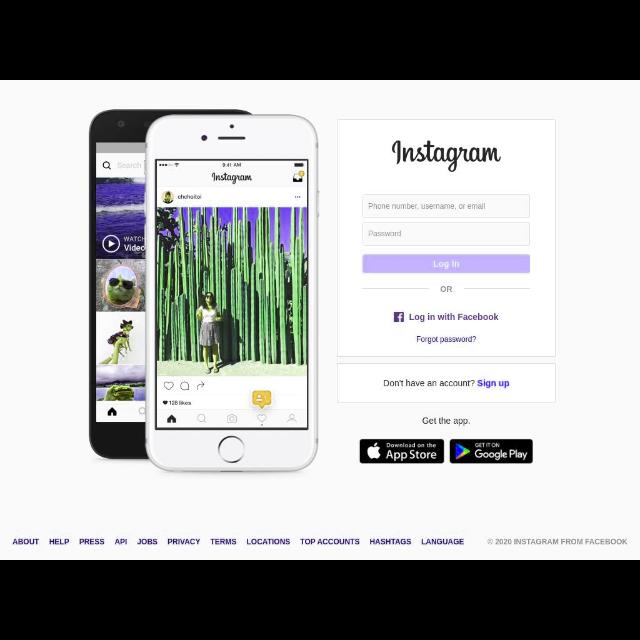icon: (394, 313, 404, 321)
image: (88, 109, 320, 471), (360, 439, 444, 463), (449, 439, 533, 463)
input: (362, 194, 530, 218), (362, 222, 530, 246)
text: (392, 140, 502, 172), (368, 202, 486, 212), (488, 538, 628, 546), (384, 380, 510, 388), (408, 313, 498, 321), (416, 336, 476, 344), (422, 416, 470, 426), (300, 538, 360, 544), (432, 259, 460, 269), (368, 230, 402, 238), (247, 539, 290, 545), (421, 539, 464, 545), (369, 538, 411, 544), (13, 538, 39, 546), (168, 538, 200, 544), (210, 539, 237, 545), (137, 538, 157, 546), (80, 539, 106, 545), (49, 538, 69, 544), (115, 538, 126, 546), (441, 286, 453, 292)
textbutton: (362, 254, 530, 274)
